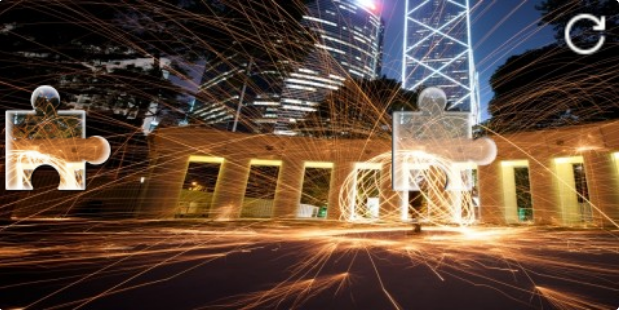target: (393, 87, 496, 191)
